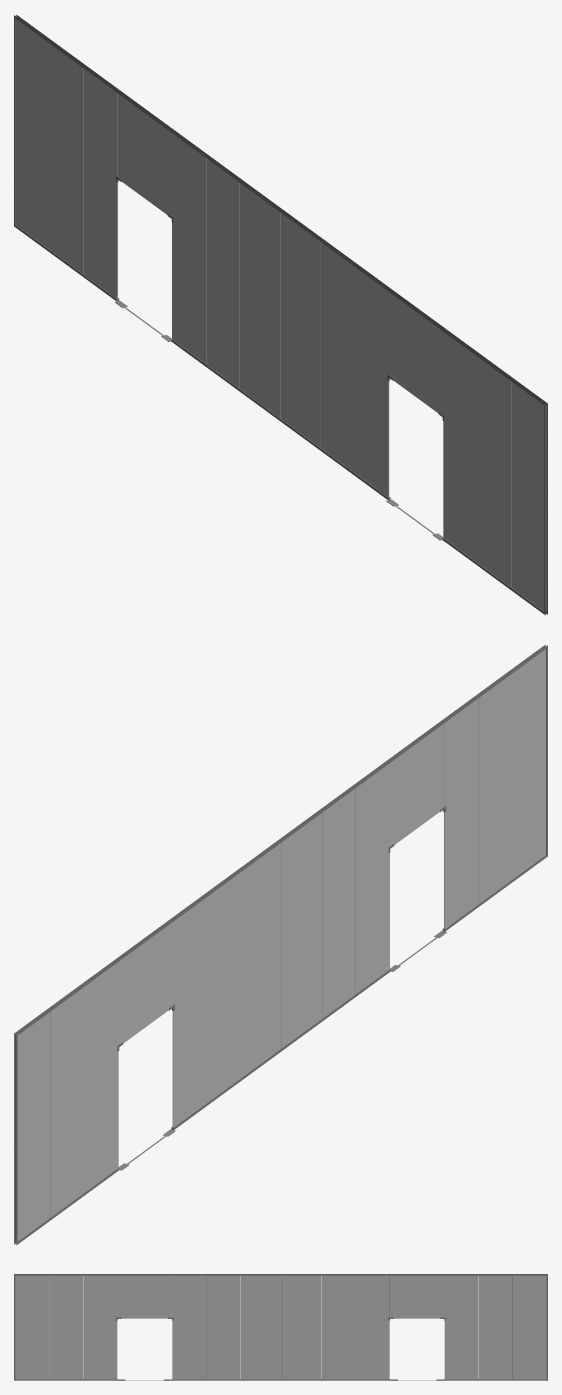
Rendered from SM_StoreFront_Glass_2000.fbx.
3 renders of one model, top to bottom at view 1: azimuth 30°, elevation 25°; view 2: azimuth 150°, elevation 25°; view 3: azimuth 270°, elevation 25°, orthographic. The views are drawn at different scales.
Parts seen in each view (by area): view 1: SM_StoreFront_Glass_2000_LOD0; view 2: SM_StoreFront_Glass_2000_LOD0; view 3: SM_StoreFront_Glass_2000_LOD0.
Part boxes in pixels (x1=…): SM_StoreFront_Glass_2000_LOD0: x1=14, y1=14, x2=547, y2=615; SM_StoreFront_Glass_2000_LOD0: x1=14, y1=644, x2=547, y2=1245; SM_StoreFront_Glass_2000_LOD0: x1=14, y1=1274, x2=547, y2=1380.
Bounding box in the file's own units: 12.27 × 1960 × 430.
